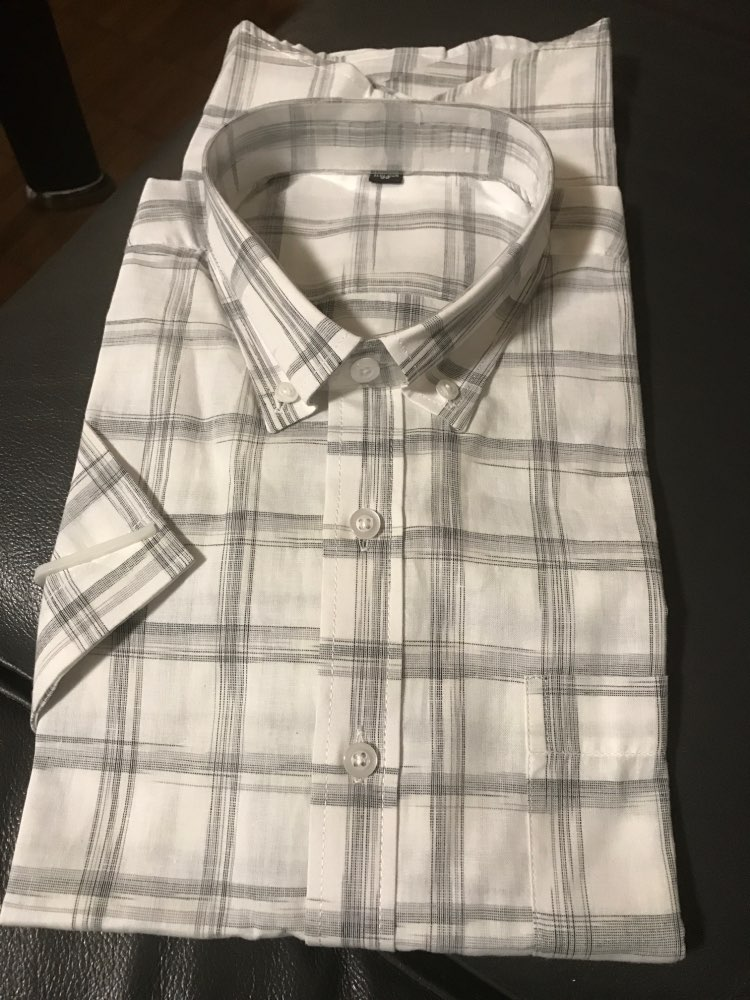shirts: (72, 129, 692, 971)
